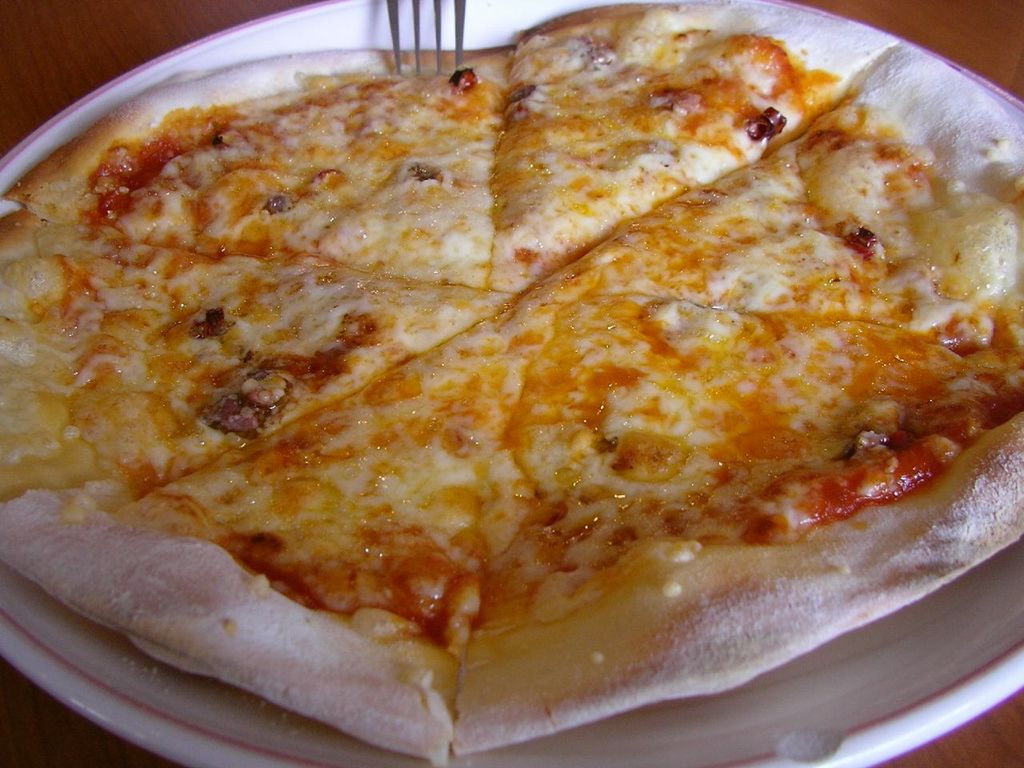Pizza: (1, 33, 1024, 751)
